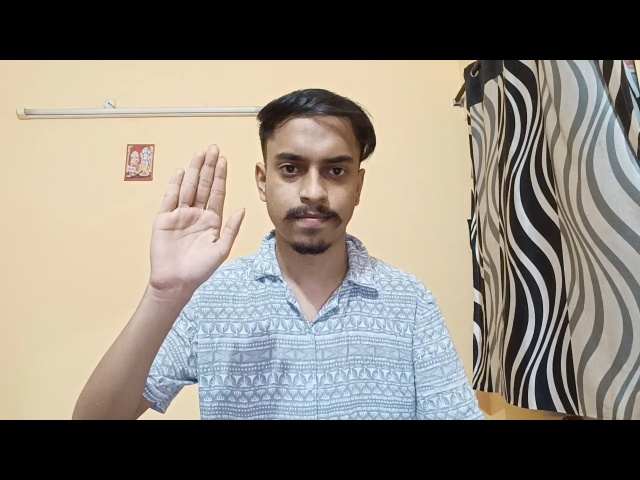Hello: (159, 143, 248, 314)
